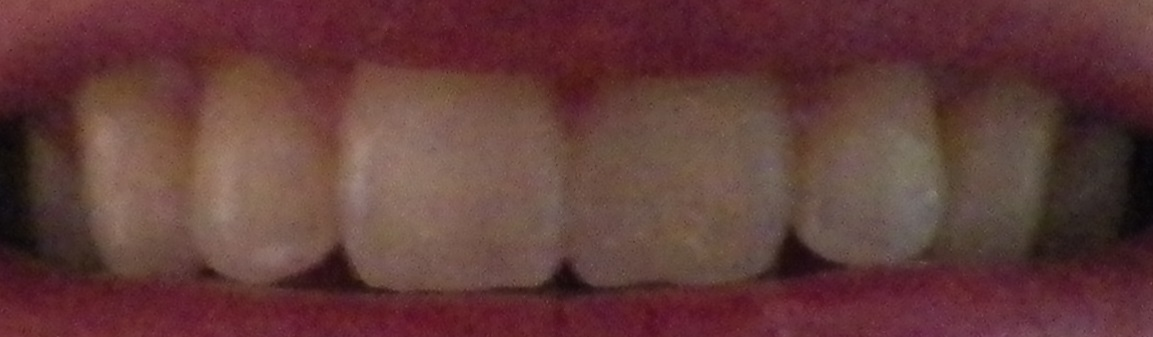boca: (26, 55, 1146, 281)
